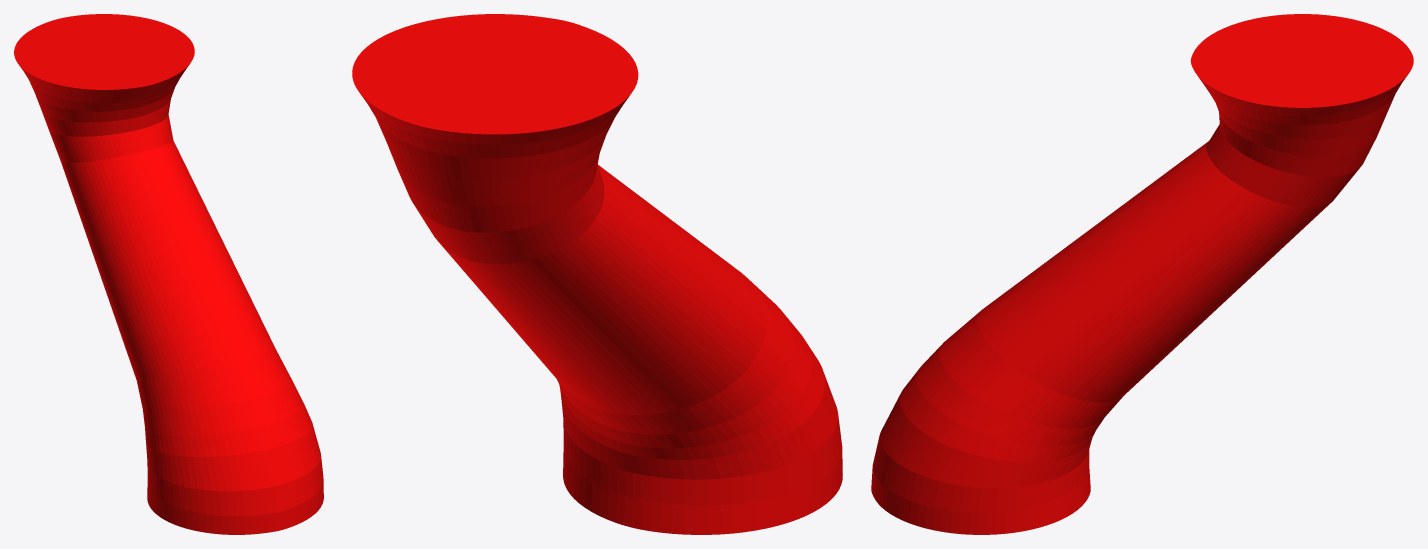
The picture shows the model from 3 angles, left to right: view 1: azimuth 30°, elevation 25°; view 2: azimuth 150°, elevation 25°; view 3: azimuth 270°, elevation 25°; orthographic projection. The views are drawn at different scales.
Visible parts, largest first — view 1: MF1509_4_0; view 2: MF1509_4_0; view 3: MF1509_4_0.
Part boxes in pixels (x1,y1,x2,y2): MF1509_4_0: (14, 14, 323, 534); MF1509_4_0: (352, 14, 842, 534); MF1509_4_0: (871, 14, 1413, 534).
Bounding box in the file's own units: 101 × 246 × 215.
